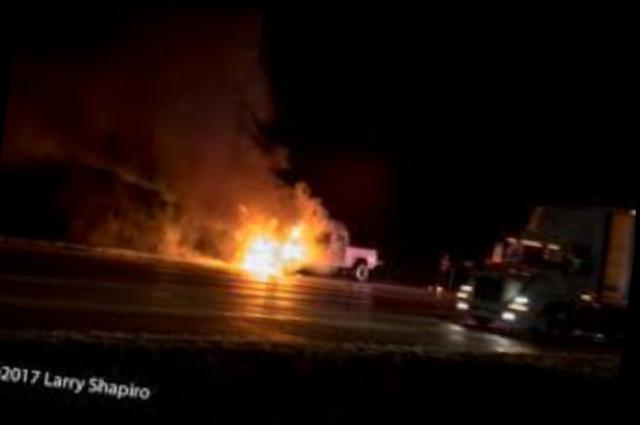fire: (212, 183, 352, 285)
